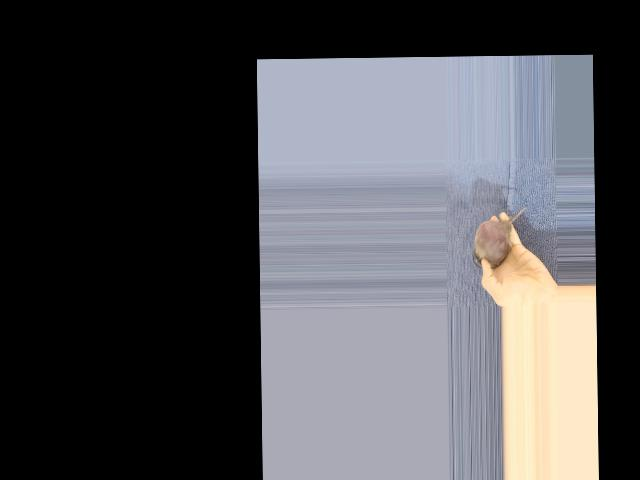beet: (471, 207, 527, 268)
